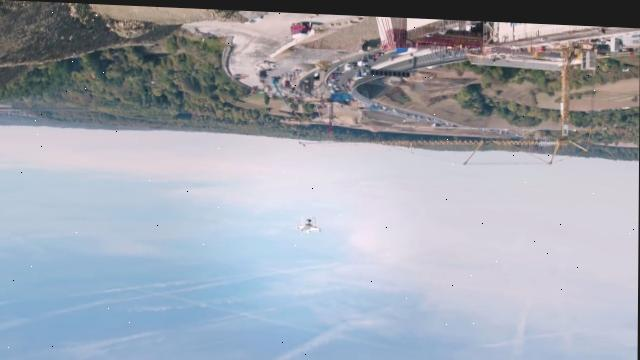drone: (292, 213, 325, 233)
